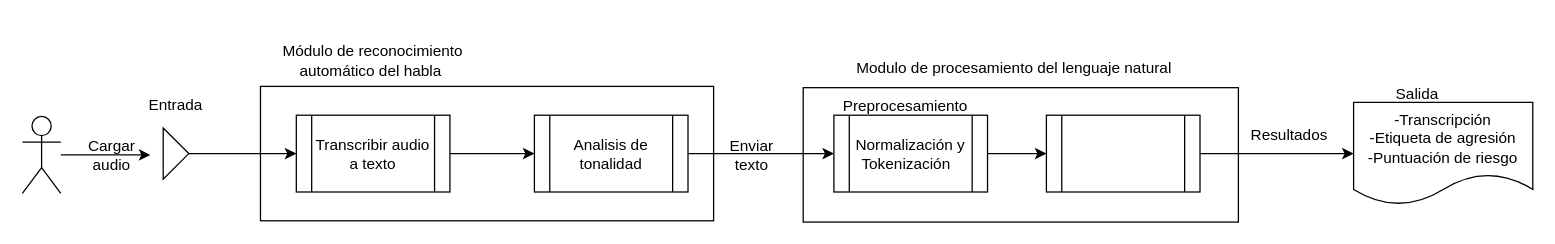
The diagram is 1555 pixels wide and 244 high, and some of its shapes have lost their labels. The shapes that lost their labels are listed below. From the top down, each one's box as (x1, y1, x2, y2) in pixels, then its label:
(21, 115, 61, 193): Actor
(1045, 114, 1200, 192): Analisis de sentimientos
